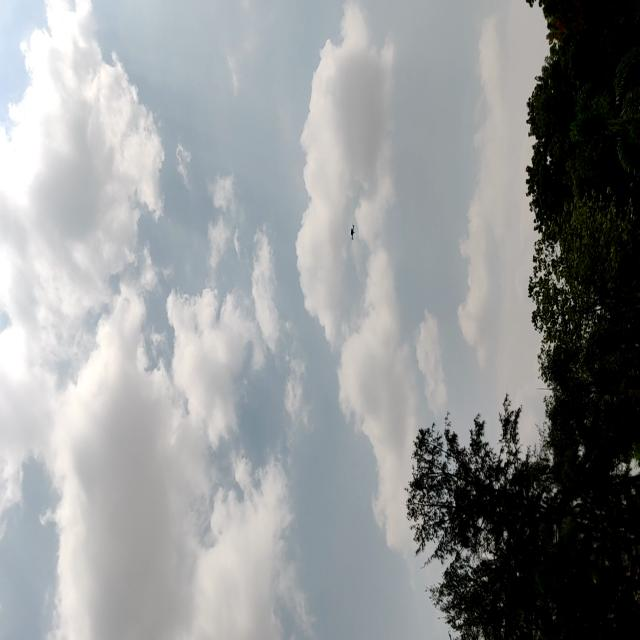drone: (344, 220, 361, 244)
